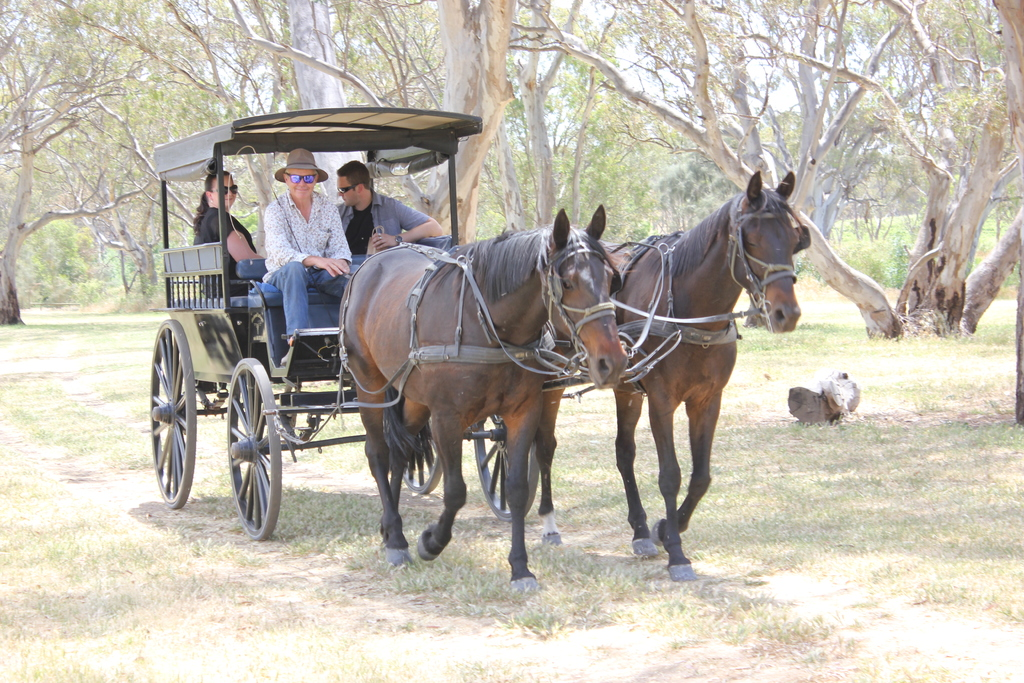horse: (338, 203, 628, 592)
